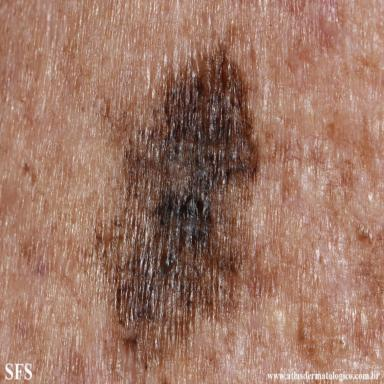Melanoma: (95, 49, 276, 371)
